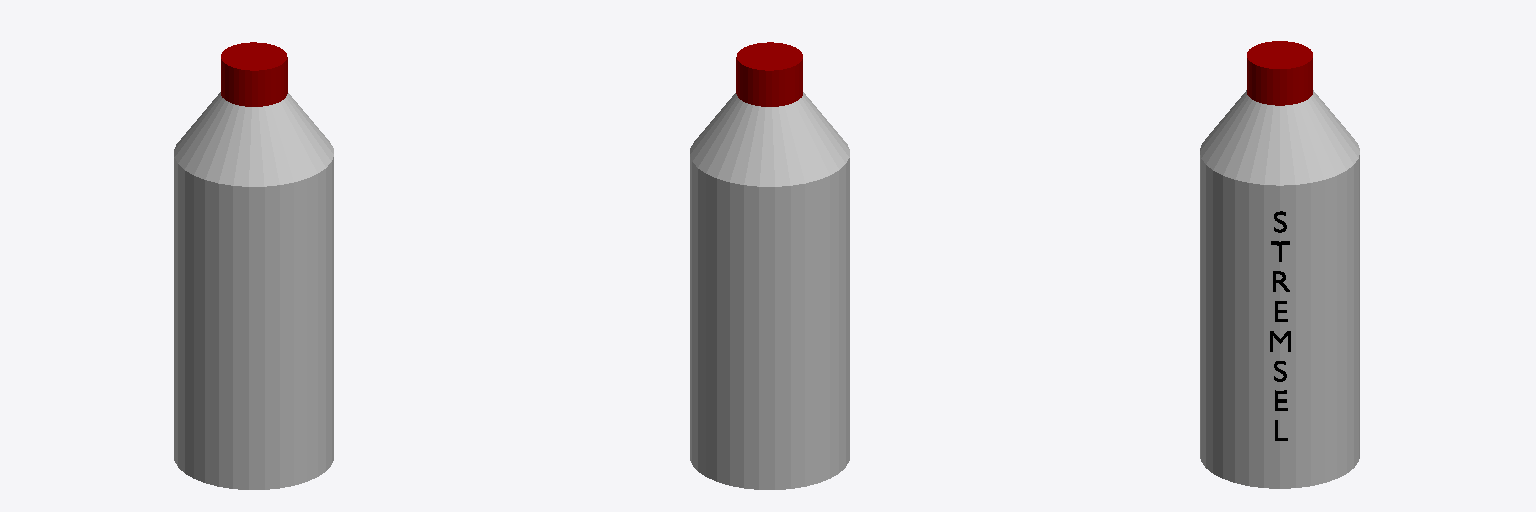
The model's file is fles.obj.
3 views of the same model, side by side, from view 1: azimuth 30°, elevation 25°; view 2: azimuth 150°, elevation 25°; view 3: azimuth 270°, elevation 25° (orthographic).
Parts seen in each view (by area): view 1: Cylinder.001_Cylinder.002; view 2: Cylinder.001_Cylinder.002; view 3: Cylinder.001_Cylinder.002, stremsel_Text.002.
Boxes of the visible parts, box(x1,y1,x2,y2) form: Cylinder.001_Cylinder.002: box(174, 42, 333, 489); Cylinder.001_Cylinder.002: box(690, 42, 849, 489); Cylinder.001_Cylinder.002: box(1200, 41, 1359, 488); stremsel_Text.002: box(1270, 211, 1290, 440).
Bounding box in the file's own units: 0.4464 × 1.19 × 0.4346.